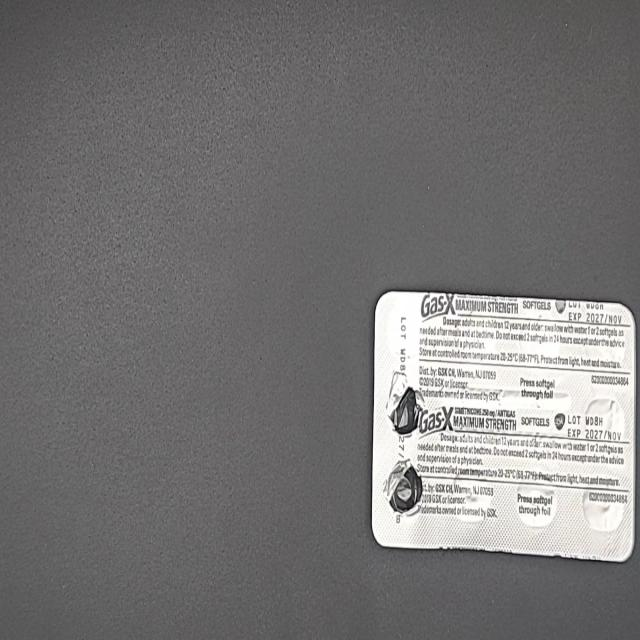defect: (384, 368, 426, 441), (381, 456, 426, 520)
